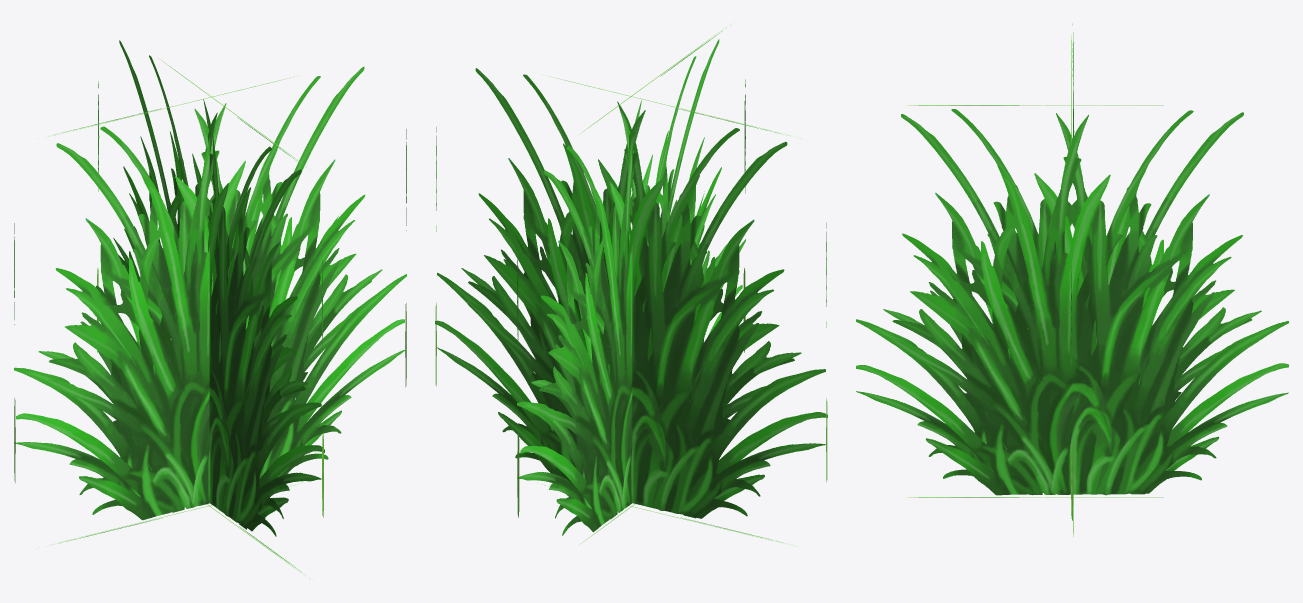
Rendered from Grama.dae.
The picture shows the model from 3 angles, left to right: view 1: azimuth 30°, elevation 25°; view 2: azimuth 150°, elevation 25°; view 3: azimuth 270°, elevation 25°; orthographic projection. The views are drawn at different scales.
Parts seen in each view (by area): view 1: Cubo.001; view 2: Cubo.001; view 3: Cubo.001.
Part boxes in pixels (bbox=[...]): Cubo.001: bbox=[14, 40, 406, 574]; Cubo.001: bbox=[435, 28, 827, 544]; Cubo.001: bbox=[856, 23, 1288, 536].
Bounding box in the file's own units: 2 × 2 × 2.
